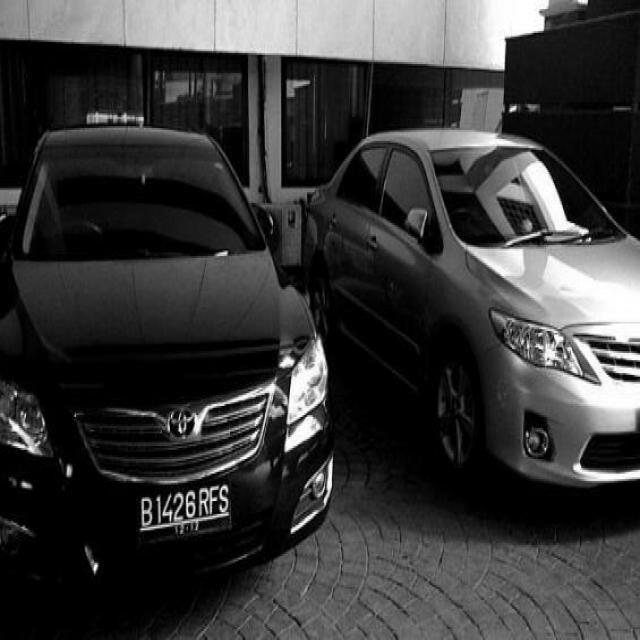1: (154, 494, 162, 524)
2: (173, 491, 184, 526)
4: (162, 494, 172, 526)
6: (186, 492, 196, 520)
B: (140, 492, 154, 530)
F: (207, 486, 219, 513)
R: (200, 486, 208, 519)
S: (218, 482, 232, 514)
